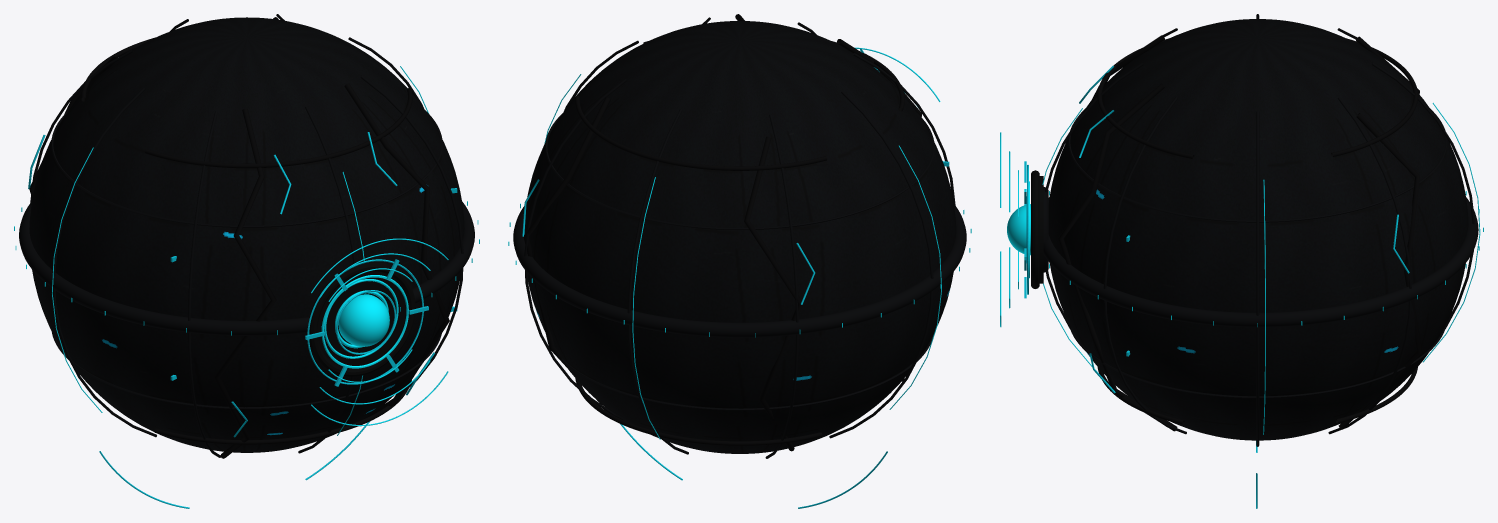
File: SonarProbeBall_BaseModel.fbx
3 views of the same model, side by side, from view 1: azimuth 30°, elevation 25°; view 2: azimuth 150°, elevation 25°; view 3: azimuth 270°, elevation 25° (orthographic). The views are drawn at different scales.
Visible parts, largest first — view 1: Shell_DarkSegmentedSphere, Equator_DarkRaisedBelt, Detail_FrontEmitterRecess_DarkDisk, Detail_FrontEmitterOuterBezel, ArmorBoundary_FrontLeft_KinkedPlate.001, Core_SmokedFrontLens, ArmorBoundary_FrontRight_KinkedPlate.001, ArmorBoundary_TopFrontCapArc.001, Detail_LatitudePanelGroove_Upper, ArmorBoundary_LowerFrontCapArc.001, PanelSeam_Dark_180, Detail_LatitudePanelGroove_Lower (+7 smaller); view 2: Shell_DarkSegmentedSphere, Equator_DarkRaisedBelt, ArmorBoundary_BackLeft_KinkedPlate.001, ArmorBoundary_TopBackCapArc.001, Detail_LatitudePanelGroove_Upper, ArmorBoundary_LowerBackCapArc.001, PanelSeam_Dark_180, ArmorBoundary_BackRight_KinkedPlate.001, PanelSeam_Dark_045, PanelSeam_Dark_090, PanelSeam_Dark_135, Detail_LatitudePanelGroove_Lower (+1 smaller); view 3: Shell_DarkSegmentedSphere, Equator_DarkRaisedBelt, ArmorBoundary_FrontRight_KinkedPlate.001, ArmorBoundary_BackRight_KinkedPlate.001, Detail_LatitudePanelGroove_Upper, PanelSeam_Dark_000, PanelSeam_Dark_315, PanelSeam_Dark_045, Detail_LatitudePanelGroove_Lower, Detail_FrontEmitterOuterBezel, ArmorBoundary_TopBackCapArc.001, PanelSeam_Dark_090 (+4 smaller).
Boxes of the visible parts, x1,y1,x2,y2 form: Shell_DarkSegmentedSphere: (29,17,464,452); Equator_DarkRaisedBelt: (19,201,474,335); Detail_FrontEmitterRecess_DarkDisk: (317,271,406,365); Detail_FrontEmitterOuterBezel: (309,262,415,376); ArmorBoundary_FrontLeft_KinkedPlate.001: (214,108,276,458); Core_SmokedFrontLens: (338,294,389,346); ArmorBoundary_FrontRight_KinkedPlate.001: (344,83,449,418); ArmorBoundary_TopFrontCapArc.001: (145,87,412,168); Detail_LatitudePanelGroove_Upper: (51,110,442,227); ArmorBoundary_LowerFrontCapArc.001: (154,380,411,444); PanelSeam_Dark_180: (52,87,156,437); Detail_LatitudePanelGroove_Lower: (52,332,441,409); Shell_DarkSegmentedSphere: (524,21,956,453); Equator_DarkRaisedBelt: (513,206,966,337); ArmorBoundary_BackLeft_KinkedPlate.001: (744,136,803,451); ArmorBoundary_TopBackCapArc.001: (575,95,827,170); Detail_LatitudePanelGroove_Upper: (545,113,934,229); ArmorBoundary_LowerBackCapArc.001: (575,378,822,445); PanelSeam_Dark_180: (829,91,933,438); ArmorBoundary_BackRight_KinkedPlate.001: (523,97,610,404); PanelSeam_Dark_045: (524,79,626,419); PanelSeam_Dark_090: (627,109,688,454); PanelSeam_Dark_135: (765,114,798,458); Detail_LatitudePanelGroove_Lower: (560,334,933,410); Shell_DarkSegmentedSphere: (1048,19,1468,440); Equator_DarkRaisedBelt: (1043,197,1478,327); ArmorBoundary_FrontRight_KinkedPlate.001: (1058,83,1177,431); ArmorBoundary_BackRight_KinkedPlate.001: (1338,113,1422,429); Detail_LatitudePanelGroove_Upper: (1068,108,1447,222); PanelSeam_Dark_000: (1256,111,1259,446); PanelSeam_Dark_315: (1103,97,1186,434); PanelSeam_Dark_045: (1328,97,1411,434); Detail_LatitudePanelGroove_Lower: (1068,323,1446,398); Detail_FrontEmitterOuterBezel: (1031,170,1039,288); ArmorBoundary_TopBackCapArc.001: (1331,38,1418,156); PanelSeam_Dark_090: (1371,62,1474,328).
Size of the model in its own units: 0.2144 by 0.2313 by 0.2294.
9 materials, 1 textured.
